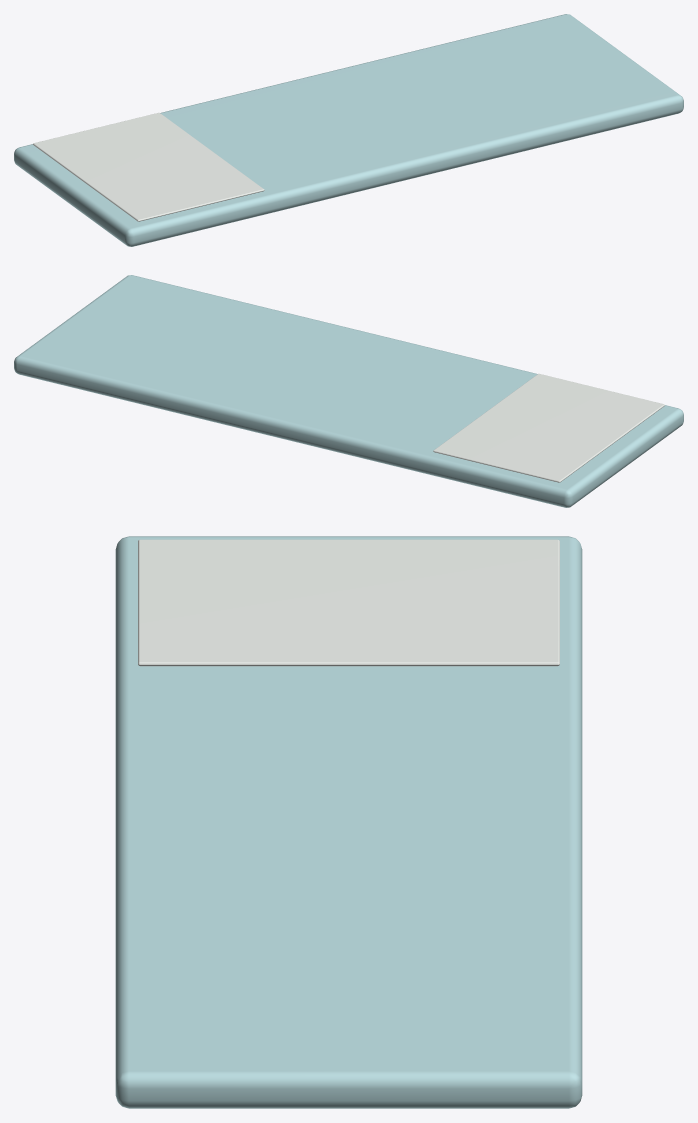
Rendered from BIO_Slide.fbx.
3 views of the same model, one above another, from view 1: azimuth 30°, elevation 25°; view 2: azimuth 150°, elevation 25°; view 3: azimuth 270°, elevation 25° (orthographic). The views are drawn at different scales.
Parts seen in each view (by area): view 1: Slide, Label; view 2: Slide, Label; view 3: Slide, Label.
Boxes of the visible parts, x1,y1,x2,y2 form: Slide: (14, 14, 683, 246); Label: (33, 112, 264, 221); Slide: (14, 275, 683, 507); Label: (433, 373, 664, 482); Slide: (115, 536, 582, 1108); Label: (138, 539, 559, 666).
Bounding box in the file's own units: 29 × 1.1 × 10.5.
